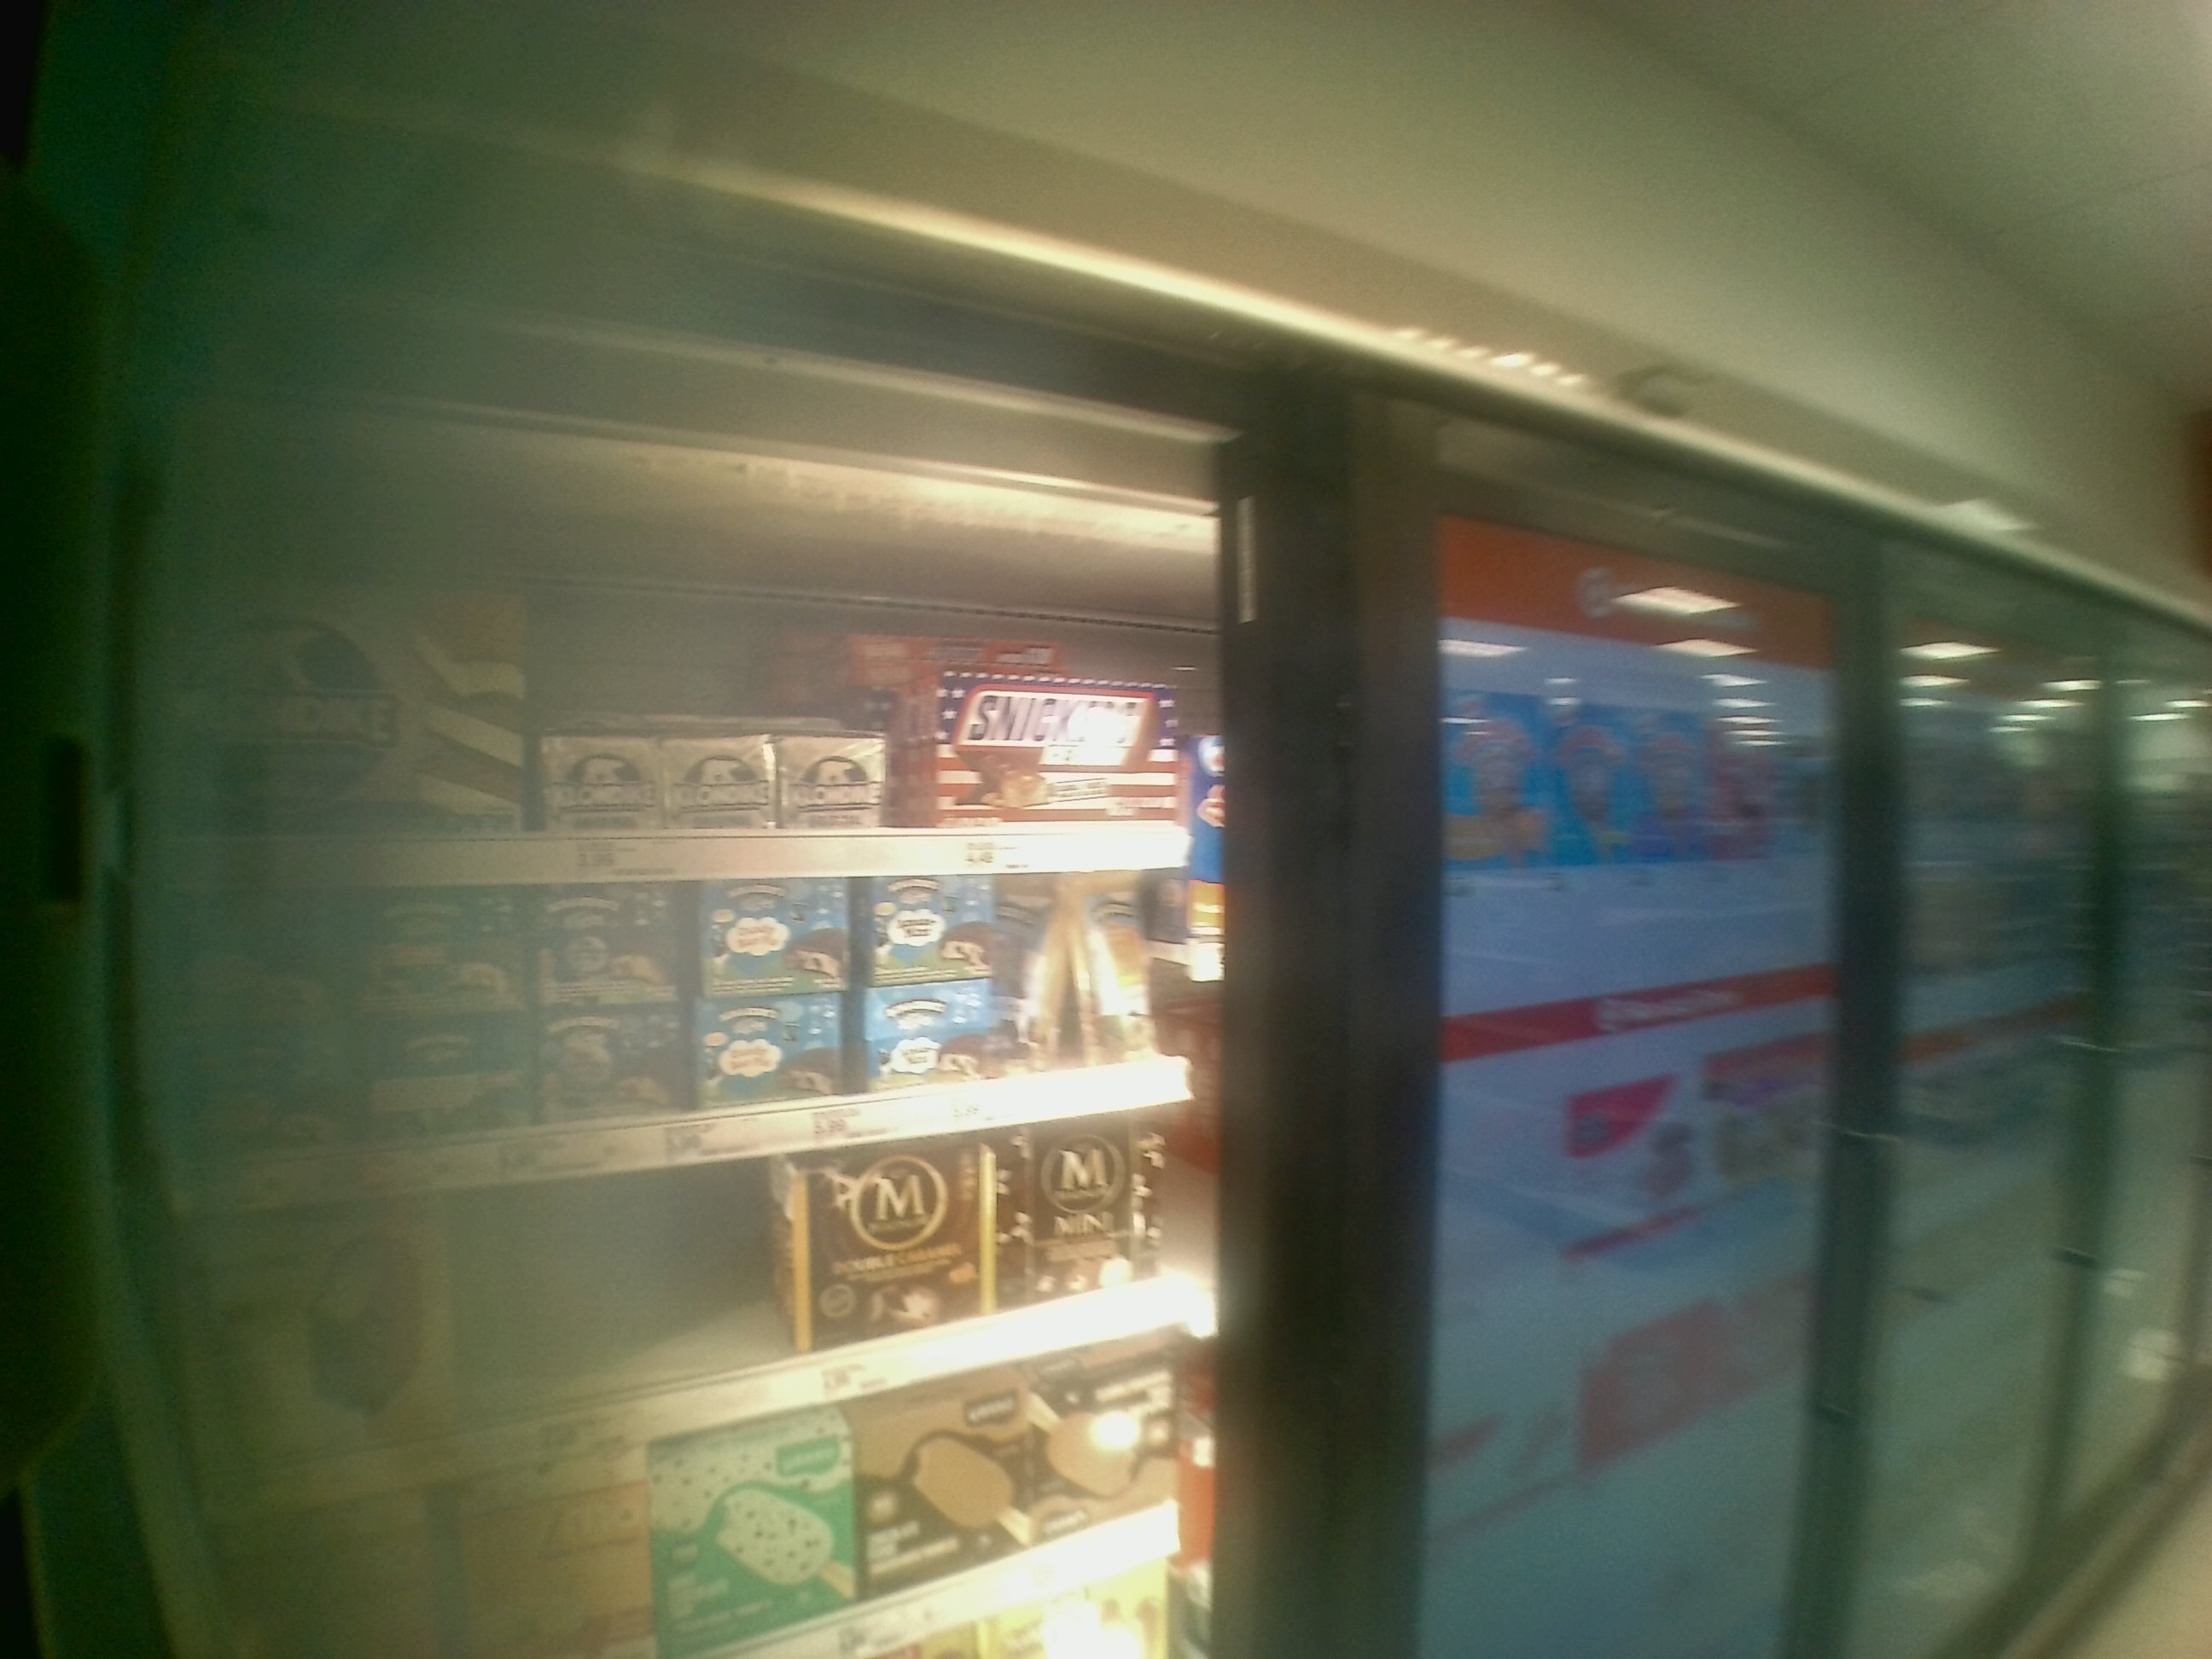ice-cream-shelf: (150, 460, 1235, 878), (145, 878, 1254, 1185)
